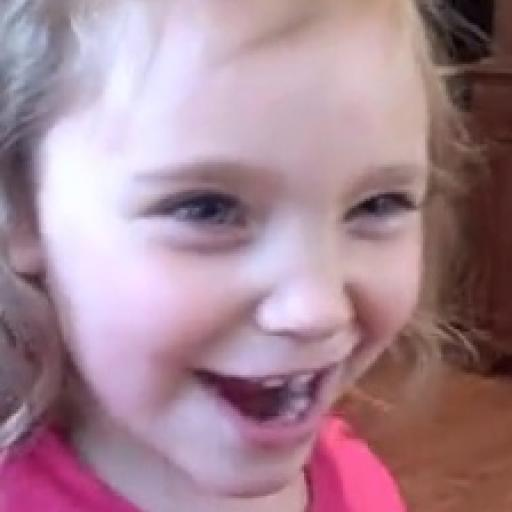Autism: (12, 0, 431, 508)
